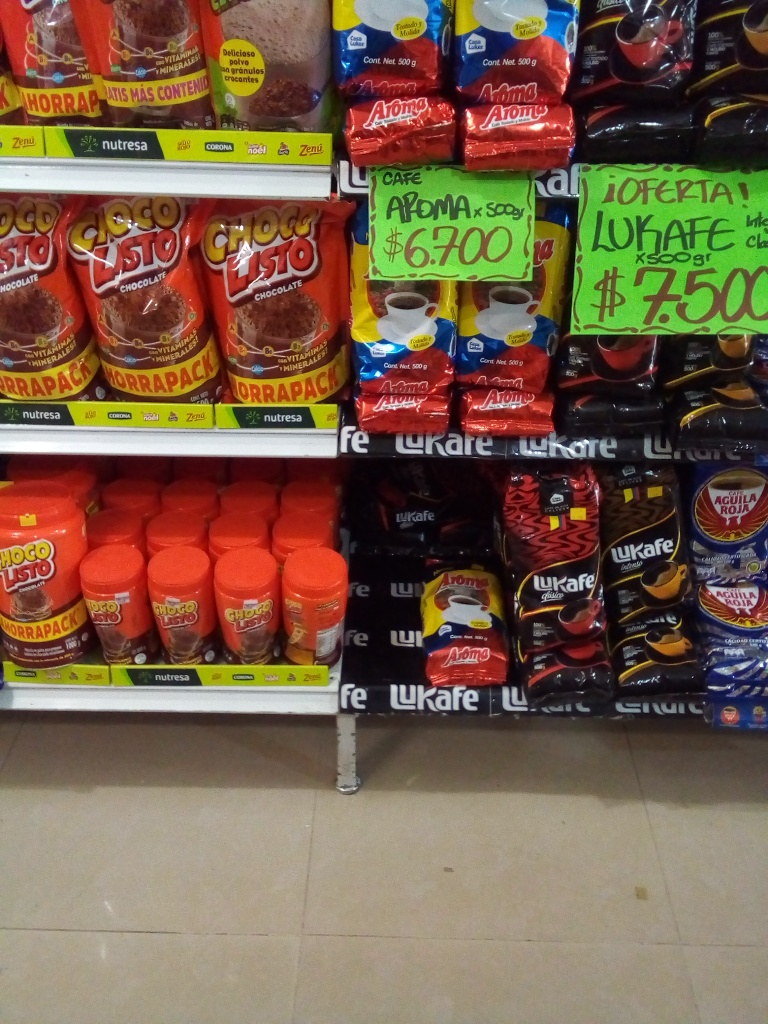COL0170103TRR00100: (1, 479, 89, 661)
